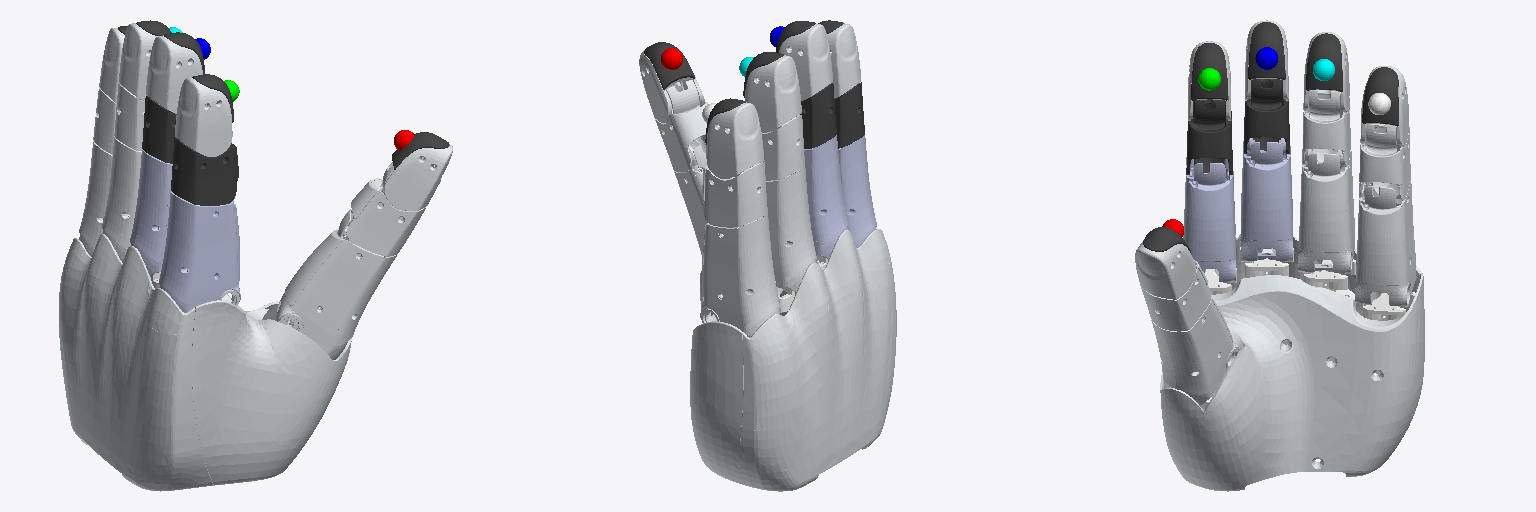
--- Facts derived from the render (not from the file) ---
The picture shows the robot from 3 angles, left to right: view 1: azimuth 30°, elevation 25°; view 2: azimuth 150°, elevation 25°; view 3: azimuth 270°, elevation 25°; orthographic projection.
Model left_hand with 31 links and 30 joints (20 revolute, 10 fixed), rooted at left_hand_base_link, posed every joint at zero.
Visible links, largest first — view 1: left_hand_base_link, l_thumb_Link2, l_index_Link2, l_thumb_Link3, l_mid_Link2, l_index_Link4, l_index_Link3, l_ring_Link2, l_thumb_Link4, l_mid_Link4, l_little_Link2, l_ring_Link4 (+7 smaller); view 2: left_hand_base_link, l_little_Link2, l_ring_Link2, l_mid_Link2, l_little_Link4, l_little_Link3, l_ring_Link4, l_thumb_Link3, l_index_Link2, l_mid_Link4, l_ring_Link3, l_index_Link4 (+7 smaller); view 3: left_hand_base_link, l_little_Link2, l_ring_Link2, l_mid_Link2, l_index_Link2, l_thumb_Link2, l_little_Link3, l_ring_Link3, l_index_Link3, l_mid_Link3, l_thumb_Link4, l_thumb_Link3 (+12 smaller).
Boxes of the visible links, <box> form: left_hand_base_link: <box>59,234,351,491</box>; l_thumb_Link2: <box>276,209,397,359</box>; l_index_Link2: <box>158,191,240,312</box>; l_thumb_Link3: <box>347,162,427,256</box>; l_mid_Link2: <box>130,149,172,276</box>; l_index_Link4: <box>175,77,232,156</box>; l_index_Link3: <box>171,137,238,205</box>; l_ring_Link2: <box>102,136,141,261</box>; l_thumb_Link4: <box>385,144,452,210</box>; l_mid_Link4: <box>146,35,202,113</box>; l_little_Link2: <box>79,140,112,256</box>; l_ring_Link4: <box>119,23,157,100</box>; left_hand_base_link: <box>690,227,896,491</box>; l_little_Link2: <box>700,214,780,336</box>; l_ring_Link2: <box>766,167,816,292</box>; l_mid_Link2: <box>804,135,848,259</box>; l_little_Link4: <box>706,102,764,178</box>; l_little_Link3: <box>702,162,767,227</box>; l_ring_Link4: <box>745,55,801,132</box>; l_thumb_Link3: <box>655,80,707,171</box>; l_index_Link2: <box>838,135,876,247</box>; l_mid_Link4: <box>779,24,832,100</box>; l_ring_Link3: <box>761,115,804,180</box>; l_index_Link4: <box>827,23,860,98</box>; left_hand_base_link: <box>1160,234,1424,491</box>; l_little_Link2: <box>1355,181,1416,305</box>; l_ring_Link2: <box>1298,149,1354,272</box>; l_mid_Link2: <box>1241,138,1292,260</box>; l_index_Link2: <box>1183,157,1235,281</box>; l_thumb_Link2: <box>1151,296,1238,405</box>; l_little_Link3: <box>1359,124,1410,199</box>; l_ring_Link3: <box>1302,90,1350,165</box>; l_index_Link3: <box>1186,99,1232,174</box>; l_mid_Link3: <box>1244,79,1289,153</box>; l_thumb_Link4: <box>1135,240,1195,299</box>; l_thumb_Link3: <box>1141,260,1210,331</box>.
Size in the robot's own frame: 0.1419 by 0.1267 by 0.2057 metres.
Meshes: 31 distinct files referenced, 31 mesh visuals loaded (31 binary STL).

The robot description file, URDF, robot "left_hand":
<?xml version="1.0"?>
<robot name="left_hand">
<!-- 后续的link、joint等定义将在这里添加 -->
<link
    name="left_hand_base_link">
    <inertial>
      <origin
        xyz="0.00296779791072187 -0.00540364796241295 0.0339495137345017"
        rpy="0 0 0" />
      <mass
        value="0.148556372728376" />
      <inertia
        ixx="0.000229894266849834"
        ixy="1.5888077250072E-05"
        ixz="9.58625100299982E-06"
        iyy="0.000141378464364347"
        iyz="6.13672789908214E-06"
        izz="0.000146509930632982" />
    </inertial>
    <visual>
      <origin
        xyz="0 0 0"
        rpy="0 0 0" />
      <geometry>
        <mesh
          filename="../meshes/left_hand_base_link.STL" />
      </geometry>
      <material
        name="">
        <color
          rgba="0.898039215686275 0.917647058823529 0.929411764705882 1" />
      </material>
    </visual>
    <collision>
      <origin
        xyz="0 0 0"
        rpy="0 0 0" />
      <geometry>
        <mesh
          filename="../meshes/left_hand_base_link.STL" />
      </geometry>
    </collision>
  </link>


  <link
    name="l_little_Link">
    <inertial>
      <origin
        xyz="-0.0229052296204234 -1.43603516367108E-06 -0.0171630640058617"
        rpy="0 0 0" />
      <mass
        value="0.0043190357873346" />
      <inertia
        ixx="2.5241403010236E-07"
        ixy="-9.65062855302873E-11"
        ixz="-1.32209369530774E-07"
        iyy="1.36153957889147E-06"
        iyz="-4.36390070322902E-12"
        izz="1.38758236343174E-06" />
    </inertial>
    <visual>
      <origin
        xyz="0 0 0"
        rpy="0 0 0" />
      <geometry>
        <mesh
          filename="../meshes/l_little_Link.STL" />
      </geometry>
      <material
        name="">
        <color
          rgba="1 1 1 1" />
      </material>
    </visual>
    <collision>
      <origin
        xyz="0 0 0"
        rpy="0 0 0" />
      <geometry>
        <mesh
          filename="../meshes/l_little_Link.STL" />
      </geometry>
    </collision>
  </link>
  <joint
    name="little_joint_link"
    type="fixed">
    <origin
      xyz="0.00816534303539043 0.0381711093059344 0.0747021548412329"
      rpy="3.1415926535894 -1.48352998916672 -0.174532925199077" />
    <parent
      link="left_hand_base_link" />
    <child
      link="l_little_Link" />
    <axis
      xyz="0 0 0" />
  </joint>
  <link
    name="l_little_Link1">
    <inertial>
      <origin
        xyz="0.00172060342986695 -1.6092273850965E-06 -0.00979856412039513"
        rpy="0 0 0" />
      <mass
        value="0.00203506474111471" />
      <inertia
        ixx="2.56395976882004E-07"
        ixy="-1.25500018329689E-11"
        ixz="-6.64122435874645E-09"
        iyy="1.18419700972717E-07"
        iyz="3.33147420342685E-11"
        izz="1.6016661400615E-07" />
    </inertial>
    <visual>
      <origin
        xyz="0 0 0"
        rpy="0 0 0" />
      <geometry>
        <mesh
          filename="../meshes/l_little_Link1.STL" />
      </geometry>
      <material
        name="">
        <color
          rgba="0.898039215686275 0.917647058823529 0.929411764705882 1" />
      </material>
    </visual>
    <collision>
      <origin
        xyz="0 0 0"
        rpy="0 0 0" />
      <geometry>
        <mesh
          filename="../meshes/l_little_Link1.STL" />
      </geometry>
    </collision>
  </link>
  <joint
    name="little_joint_Link1"
    type="revolute">
    <origin
      xyz="0 0 0"
      rpy="0 0 0" />
    <parent
      link="l_little_Link" />
    <child
      link="l_little_Link1" />
    <axis
      xyz="0 0 1" />
    <limit
      lower="-0.35"
      upper="0.35"
      effort="0"
      velocity="0" />
  </joint>
  <link
    name="l_little_Link2">
    <inertial>
      <origin
        xyz="0.0246892339286988 -0.00660246407630041 -2.8513961447485E-05"
        rpy="0 0 0" />
      <mass
        value="0.0109187963351699" />
      <inertia
        ixx="5.43261187502071E-07"
        ixy="-1.59473186422847E-07"
        ixz="5.9439153927523E-09"
        iyy="2.78203875794892E-06"
        iyz="-1.22618384962912E-09"
        izz="2.37315903699321E-06" />
    </inertial>
    <visual>
      <origin
        xyz="0 0 0"
        rpy="0 0 0" />
      <geometry>
        <mesh
          filename="../meshes/l_little_Link2.STL" />
      </geometry>
      <material
        name="">
        <color
          rgba="0.898039215686275 0.917647058823529 0.929411764705882 1" />
      </material>
    </visual>
    <collision>
      <origin
        xyz="0 0 0"
        rpy="0 0 0" />
      <geometry>
        <mesh
          filename="../meshes/l_little_Link2.STL" />
      </geometry>
    </collision>
  </link>
  <joint
    name="little_joint_Link2"
    type="revolute">
    <origin
      xyz="0.00266970069217996 0 0"
      rpy="1.5707963267949 0.0754319750352538 0" />
    <parent
      link="l_little_Link1" />
    <child
      link="l_little_Link2" />
    <axis
      xyz="0 0 1" />
    <limit
      lower="0"
      upper="1.48"
      effort="0"
      velocity="0" />
  </joint>
  <link
    name="l_little_Link3">
    <inertial>
      <origin
        xyz="0.0132067233010113 -0.00345018599186972 -0.000776981179585412"
        rpy="0 0 0" />
      <mass
        value="0.00911384846676701" />
      <inertia
        ixx="2.71031056540725E-07"
        ixy="-1.25546077604047E-07"
        ixz="-1.31092302426957E-08"
        iyy="9.17771220990002E-07"
        iyz="-3.09774297617696E-09"
        izz="8.86377126790325E-07" />
    </inertial>
    <visual>
      <origin
        xyz="0 0 0"
        rpy="0 0 0" />
      <geometry>
        <mesh
          filename="../meshes/l_little_Link3.STL" />
      </geometry>
      <material
        name="">
        <color
          rgba="0.898039215686275 0.917647058823529 0.929411764705882 1" />
      </material>
    </visual>
    <collision>
      <origin
        xyz="0 0 0"
        rpy="0 0 0" />
      <geometry>
        <mesh
          filename="../meshes/l_little_Link3.STL" />
      </geometry>
    </collision>
  </link>
  <joint
    name="little_joint_Link3"
    type="revolute">
    <origin
      xyz="0.051996416145839 0 0"
      rpy="0 0 -0.18678134031125" />
    <parent
      link="l_little_Link2" />
    <child
      link="l_little_Link3" />
    <axis
      xyz="0 0 1" />
    <limit
      lower="0"
      upper="1.4"
      effort="0"
      velocity="0" />
  </joint>
  <link
    name="l_little_Link4">
    <inertial>
      <origin
        xyz="0.00861823654831445 -0.00746052752435739 -0.000259390691448952"
        rpy="0 0 0" />
      <mass
        value="0.0077792427931824" />
      <inertia
        ixx="5.63819907802371E-07"
        ixy="2.16655086763159E-07"
        ixz="-1.75533372966918E-08"
        iyy="6.39958246408023E-07"
        iyz="1.44809419969732E-08"
        izz="6.10645342635964E-07" />
    </inertial>
    <visual>
      <origin
        xyz="0 0 0"
        rpy="0 0 0" />
      <geometry>
        <mesh
          filename="../meshes/l_little_Link4.STL" />
      </geometry>
      <material
        name="">
        <color
          rgba="0.898039215686275 0.917647058823529 0.929411764705882 1" />
      </material>
    </visual>
    <collision>
      <origin
        xyz="0 0 0"
        rpy="0 0 0" />
      <geometry>
        <mesh
          filename="../meshes/l_little_Link4.STL" />
      </geometry>
    </collision>
  </link>
  <joint
    name="little_joint_Link4"
    type="revolute">
    <origin
      xyz="0.0279999975933292 0 0"
      rpy="0 0 0.847727568862974" />
    <parent
      link="l_little_Link3" />
    <child
      link="l_little_Link4" />
    <axis
      xyz="0 0 1" />
    <limit
      lower="0"
      upper="1.4"
      effort="0"
      velocity="0" />
  </joint>
  <link
    name="l_little_Link5">
    <inertial>
      <origin
        xyz="-0.0014560998729379 -0.00486182731439654 -2.26725626933932E-06"
        rpy="0 0 0" />
      <mass
        value="0.000459946046328542" />
      <inertia
        ixx="3.03510494334862E-08"
        ixy="6.16115686773574E-09"
        ixz="1.46358476700954E-13"
        iyy="1.29751024667918E-08"
        iyz="-5.89758134452783E-12"
        izz="2.59273781671985E-08" />
    </inertial>
    <visual>
      <origin
        xyz="0 0 0"
        rpy="0 0 0" />
      <geometry>
        <mesh
          filename="../meshes/l_little_Link5.STL" />
      </geometry>
      <material
        name="">
        <color
          rgba="0.298039215686275 0.298039215686275 0.298039215686275 1" />
      </material>
    </visual>

    <!-- Add fingertip sphere -->
    <visual>
      <origin xyz="0 0 0" rpy="0 0 0" /> <!-- Positioning the sphere slightly from the tip -->
      <geometry>
        <sphere radius="0.005" /> <!-- Radius of the sphere, 5mm -->
      </geometry>
      <material name="white">
        <color rgba="1 1 1 1" /> <!-- Red color for the fingertip -->
      </material>
    </visual>

    
    <collision>
      <origin
        xyz="0 0 0"
        rpy="0 0 0" />
      <geometry>
        <mesh
          filename="../meshes/l_little_Link5.STL" />
      </geometry>
    </collision>
  </link>
  <joint
    name="little_joint_Link5"
    type="fixed">
    <origin
      xyz="0.0192146701472017 0 0"
      rpy="0 0 0" />
    <parent
      link="l_little_Link4" />
    <child
      link="l_little_Link5" />
    <axis
      xyz="0 0 0" />
  </joint>
  <link
    name="l_ring_Link">
    <inertial>
      <origin
        xyz="-0.0229052302257598 -1.43640644095777E-06 -0.017163064044914"
        rpy="0 0 0" />
      <mass
        value="0.00431903616614606" />
      <inertia
        ixx="2.5241405226222E-07"
        ixy="-9.64427663765468E-11"
        ixz="-1.32209315560787E-07"
        iyy="1.36153961088563E-06"
        iyz="-4.41844039009005E-12"
        izz="1.38758238016977E-06" />
    </inertial>
    <visual>
      <origin
        xyz="0 0 0"
        rpy="0 0 0" />
      <geometry>
        <mesh
          filename="../meshes/l_ring_Link.STL" />
      </geometry>
      <material
        name="">
        <color
          rgba="1 1 1 1" />
      </material>
    </visual>
    <collision>
      <origin
        xyz="0 0 0"
        rpy="0 0 0" />
      <geometry>
        <mesh
          filename="../meshes/l_ring_Link.STL" />
      </geometry>
    </collision>
  </link>
  <joint
    name="ring_joint_Link"
    type="fixed">
    <origin
      xyz="0.00481003038893076 0.0129963720296505 0.0887021464593528"
      rpy="3.14159265358961 -1.48352998916671 -0.0873783326349332" />
    <parent
      link="left_hand_base_link" />
    <child
      link="l_ring_Link" />
    <axis
      xyz="0 0 0" />
  </joint>
  <link
    name="l_ring_Link1">
    <inertial>
      <origin
        xyz="0.00172060506979917 -1.63281238957369E-06 -0.00979855501844473"
        rpy="0 0 0" />
      <mass
        value="0.00203505338352383" />
      <inertia
        ixx="2.56394618057585E-07"
        ixy="-1.26005937824003E-11"
        ixz="-6.64143949379228E-09"
        iyy="1.18418967799248E-07"
        iyz="3.2899635790103E-11"
        izz="1.60166110745908E-07" />
    </inertial>
    <visual>
      <origin
        xyz="0 0 0"
        rpy="0 0 0" />
      <geometry>
        <mesh
          filename="../meshes/l_ring_Link1.STL" />
      </geometry>
      <material
        name="">
        <color
          rgba="0.898039215686275 0.917647058823529 0.929411764705882 1" />
      </material>
    </visual>
    <collision>
      <origin
        xyz="0 0 0"
        rpy="0 0 0" />
      <geometry>
        <mesh
          filename="../meshes/l_ring_Link1.STL" />
      </geometry>
    </collision>
  </link>
  <joint
    name="ring_joint_Link1"
    type="revolute">
    <origin
      xyz="0 0 0"
      rpy="0 0 0" />
    <parent
      link="l_ring_Link" />
    <child
      link="l_ring_Link1" />
    <axis
      xyz="0 0 1" />
    <limit
      lower="-0.35"
      upper="0.35"
      effort="0"
      velocity="0" />
  </joint>
  <link
    name="l_ring_Link2">
    <inertial>
      <origin
        xyz="0.0259440280928197 -0.00425643421016016 -1.77699749138588E-05"
        rpy="0 0 0" />
      <mass
        value="0.018986264086651" />
      <inertia
        ixx="1.0304196721322E-06"
        ixy="-5.50432184203712E-08"
        ixz="9.15819378682299E-09"
        iyy="5.54795594338034E-06"
        iyz="-6.82204730686306E-10"
        izz="4.84277028970165E-06" />
    </inertial>
    <visual>
      <origin
        xyz="0 0 0"
        rpy="0 0 0" />
      <geometry>
        <mesh
          filename="../meshes/l_ring_Link2.STL" />
      </geometry>
      <material
        name="">
        <color
          rgba="0.898039215686275 0.917647058823529 0.929411764705882 1" />
      </material>
    </visual>
    <collision>
      <origin
        xyz="0 0 0"
        rpy="0 0 0" />
      <geometry>
        <mesh
          filename="../meshes/l_ring_Link2.STL" />
      </geometry>
    </collision>
  </link>
  <joint
    name="ring_joint_Link2"
    type="revolute">
    <origin
      xyz="0.00266970069218002 0 0"
      rpy="1.5707963267949 0.0927123573677301 0" />
    <parent
      link="l_ring_Link1" />
    <child
      link="l_ring_Link2" />
    <axis
      xyz="0 0 1" />
    <limit
      lower="0"
      upper="1.48"
      effort="0"
      velocity="0" />
  </joint>
  <link
    name="l_ring_Link3">
    <inertial>
      <origin
        xyz="0.0132066972442133 -0.00345031458222399 -0.000776953246793471"
        rpy="0 0 0" />
      <mass
        value="0.00911399750701795" />
      <inertia
        ixx="2.7103977517645E-07"
        ixy="-1.25546284687532E-07"
        ixz="-1.31094760819029E-08"
        iyy="9.17783598562711E-07"
        iyz="-3.09795340402588E-09"
        izz="8.86381785321369E-07" />
    </inertial>
    <visual>
      <origin
        xyz="0 0 0"
        rpy="0 0 0" />
      <geometry>
        <mesh
          filename="../meshes/l_ring_Link3.STL" />
      </geometry>
      <material
        name="">
        <color
          rgba="0.898039215686275 0.917647058823529 0.929411764705882 1" />
      </material>
    </visual>
    <collision>
      <origin
        xyz="0 0 0"
        rpy="0 0 0" />
      <geometry>
        <mesh
          filename="../meshes/l_ring_Link3.STL" />
      </geometry>
    </collision>
  </link>
  <joint
    name="ring_joint_Link3"
    type="revolute">
    <origin
      xyz="0.0519964161458373 0 0"
      rpy="0 0 -0.186824957553568" />
    <parent
      link="l_ring_Link2" />
    <child
      link="l_ring_Link3" />
    <axis
      xyz="0 0 1" />
    <limit
      lower="0"
      upper="1.4"
      effort="0"
      velocity="0" />
  </joint>
  <link
    name="l_ring_Link4">
    <inertial>
      <origin
        xyz="0.00861827293731393 -0.00746055651272146 -0.00025934856158652"
        rpy="0 0 0" />
      <mass
        value="0.00777931716912893" />
      <inertia
        ixx="5.63823848198068E-07"
        ixy="2.16657507471967E-07"
        ixz="-1.75526123116476E-08"
        iyy="6.39960408040215E-07"
        iyz="1.44811898264818E-08"
        izz="6.10650427374163E-07" />
    </inertial>
    <visual>
      <origin
        xyz="0 0 0"
        rpy="0 0 0" />
      <geometry>
        <mesh
          filename="../meshes/l_ring_Link4.STL" />
      </geometry>
      <material
        name="">
        <color
          rgba="0.898039215686275 0.917647058823529 0.929411764705882 1" />
      </material>
    </visual>
    <collision>
      <origin
        xyz="0 0 0"
        rpy="0 0 0" />
      <geometry>
        <mesh
          filename="../meshes/l_ring_Link4.STL" />
      </geometry>
    </collision>
  </link>
  <joint
    name="ring_joint_Link4"
    type="revolute">
    <origin
      xyz="0.0280000000000191 0 0"
      rpy="0 0 0.847685632513042" />
    <parent
      link="l_ring_Link3" />
    <child
      link="l_ring_Link4" />
    <axis
      xyz="0 0 1" />
    <limit
      lower="0"
      upper="1.4"
      effort="0"
      velocity="0" />
  </joint>
  <link
    name="l_ring_Link5">
    <inertial>
      <origin
        xyz="-0.00145614829167237 -0.00486213236464841 -1.61911022714123E-06"
        rpy="0 0 0" />
      <mass
        value="0.000459982817495153" />
      <inertia
        ixx="3.03527233721561E-08"
        ixy="6.16128329502206E-09"
        ixz="2.51976648053025E-13"
        iyy="1.29761063777049E-08"
        iyz="-4.20898376836525E-12"
        izz="2.59279521109627E-08" />
    </inertial>
    <visual>
      <origin
        xyz="0 0 0"
        rpy="0 0 0" />
      <geometry>
        <mesh
          filename="../meshes/l_ring_Link5.STL" />
      </geometry>
      <material
        name="">
        <color
          rgba="0.298039215686275 0.298039215686275 0.298039215686275 1" />
      </material>
    </visual>

    <!-- Add fingertip sphere -->
    <visual>
      <origin xyz="0 0 0" rpy="0 0 0" /> <!-- Positioning the sphere slightly from the tip -->
      <geometry>
        <sphere radius="0.005" /> <!-- Radius of the sphere, 5mm -->
      </geometry>
      <material name="cyan">
        <color rgba="0 1 1 1" /> <!-- Red color for the fingertip -->
      </material>
    </visual>


    <collision>
      <origin
        xyz="0 0 0"
        rpy="0 0 0" />
      <geometry>
        <mesh
          filename="../meshes/l_ring_Link5.STL" />
      </geometry>
    </collision>
  </link>
  <joint
    name="ring_joint_Link5"
    type="fixed">
    <origin
      xyz="0.0192146701472015 0 0"
      rpy="0 0 0" />
    <parent
      link="l_ring_Link4" />
    <child
      link="l_ring_Link5" />
    <axis
      xyz="0 0 0" />
  </joint>
  <link
    name="l_mid_Link">
    <inertial>
      <origin
        xyz="-0.0229052282256459 -1.4367212710642E-06 -0.0171630635059725"
        rpy="0 0 0" />
      <mass
        value="0.00431903691502812" />
      <inertia
        ixx="2.52414085447547E-07"
        ixy="-9.63917384649585E-11"
        ixz="-1.32209330012813E-07"
        iyy="1.36153980529772E-06"
        iyz="-4.45232932335304E-12"
        izz="1.38758254722346E-06" />
    </inertial>
    <visual>
      <origin
        xyz="0 0 0"
        rpy="0 0 0" />
      <geometry>
        <mesh
          filename="../meshes/l_mid_Link.STL" />
      </geometry>
      <material
        name="">
        <color
          rgba="1 1 1 1" />
      </material>
    </visual>
    
    <collision>
      <origin
        xyz="0 0 0"
        rpy="0 0 0" />
      <geometry>
        <mesh
          filename="../meshes/l_mid_Link.STL" />
      </geometry>
    </collision>
  </link>
  <joint
    name="mid_joint_Link"
    type="fixed">
    <origin
      xyz="0.00364998856872663 -0.0125051922308197 0.0937021458861629"
      rpy="3.14159265358979 -1.48352998916671 0" />
    <parent
      link="left_hand_base_link" />
    <child
      link="l_mid_Link" />
    <axis
      xyz="0 0 0" />
  </joint>
  <link
    name="l_mid_Link1">
    <inertial>
      <origin
        xyz="0.00171995172400527 -9.93001217641787E-08 -0.00979689525142753"
        rpy="0 0 0" />
      <mass
        value="0.00203540900102666" />
      <inertia
        ixx="2.56458737701822E-07"
        ixy="-1.89330587745718E-13"
        ixz="-6.63417848554982E-09"
        iyy="1.18446259145766E-07"
        iyz="1.41583972464041E-12"
        izz="1.60186232901657E-07" />
    </inertial>
    <visual>
      <origin
        xyz="0 0 0"
        rpy="0 0 0" />
      <geometry>
        <mesh
          filename="../meshes/l_mid_Link1.STL" />
      </geometry>
      <material
        name="">
        <color
          rgba="0.898039215686275 0.917647058823529 0.929411764705882 1" />
      </material>
    </visual>
    <collision>
      <origin
        xyz="0 0 0"
        rpy="0 0 0" />
      <geometry>
        <mesh
          filename="../meshes/l_mid_Link1.STL" />
      </geometry>
    </collision>
  </link>
  <joint
    name="mid_joint_Link1"
    type="revolute">
    <origin
      xyz="0 0 0"
      rpy="0 0 0" />
    <parent
      link="l_mid_Link" />
    <child
      link="l_mid_Link1" />
    <axis
      xyz="0 0 1" />
    <limit
      lower="-0.35"
      upper="0.35"
      effort="0"
      velocity="0" />
  </joint>
  <link
    name="l_mid_Link2">
    <inertial>
      <origin
        xyz="0.0259440891888809 -0.0042565337082144 -1.77890052572016E-05"
        rpy="0 0 0" />
      <mass
        value="0.0189863976173573" />
      <inertia
        ixx="1.03042947039295E-06"
        ixy="-5.50265752361572E-08"
        ixz="9.14479417689669E-09"
        iyy="5.54797989366152E-06"
        iyz="-6.74033621784752E-10"
        izz="4.84278810007534E-06" />
    </inertial>
    <visual>
      <origin
        xyz="0 0 0"
        rpy="0 0 0" />
      <geometry>
        <mesh
          filename="../meshes/l_mid_Link2.STL" />
      </geometry>
      <material
        name="">
        <color
          rgba="0.792156862745098 0.819607843137255 0.933333333333333 1" />
      </material>
    </visual>
    <collision>
      <origin
        xyz="0 0 0"
        rpy="0 0 0" />
      <geometry>
        <mesh
          filename="../meshes/l_mid_Link2.STL" />
      </geometry>
    </collision>
  </link>
  <joint
    name="mid_joint_Link2"
    type="revolute">
    <origin
      xyz="0.00266970069218002 0 0"
      rpy="1.5707963267949 0.0925952840895053 0" />
    <parent
      link="l_mid_Link1" />
    <child
      link="l_mid_Link2" />
    <axis
      xyz="0 0 1" />
    <limit
      lower="0"
      upper="1.48"
      effort="0"
      velocity="0" />
  </joint>
  <link
    name="l_mid_Link3">
    <inertial>
      <origin
        xyz="0.013206714297042 -0.00345036757116254 -0.000776973299861095"
        rpy="0 0 0" />
      <mass
        value="0.0091140802721639" />
      <inertia
        ixx="2.71044661319173E-07"
        ixy="-1.25548150222407E-07"
        ixz="-1.31093333294134E-08"
        iyy="9.17792784483775E-07"
        iyz="-3.09763654789665E-09"
        izz="8.86387730580222E-07" />
    </inertial>
    <visual>
      <origin
        xyz="0 0 0"
        rpy="0 0 0" />
      <geometry>
        <mesh
          filename="../meshes/l_mid_Link3.STL" />
      </geometry>
      <material
        name="">
        <color
          rgba="0.298039215686275 0.298039215686275 0.298039215686275 1" />
      </material>
    </visual>
    <collision>
      <origin
        xyz="0 0 0"
        rpy="0 0 0" />
      <geometry>
        <mesh
          filename="../meshes/l_mid_Link3.STL" />
      </geometry>
    </collision>
  </link>
  <joint
    name="mid_joint_Link3"
    type="revolute">
    <origin
      xyz="0.0519964161458393 0 0"
      rpy="0 0 -0.186782267123327" />
    <parent
      link="l_mid_Link2" />
    <child
      link="l_mid_Link3" />
    <axis
      xyz="0 0 1" />
    <limit
      lower="0"
      upper="1.4"
      effort="0"
      velocity="0" />
  </joint>
  <link
    name="l_mid_Link4">
    <inertial>
      <origin
        xyz="0.00861832364616719 -0.00746055600621305 -0.00025934627600202"
        rpy="0 0 0" />
      <mass
        value="0.00777934344890331" />
      <inertia
        ixx="5.63823726587379E-07"
        ixy="2.16658532074309E-07"
        ixz="-1.75526181463711E-08"
        iyy="6.39960694023276E-07"
        iyz="1.44811159455673E-08"
        izz="6.10652424670872E-07" />
    </inertial>
    <visual>
      <origin
        xyz="0 0 0"
        rpy="0 0 0" />
      <geometry>
        <mesh
          filename="../meshes/l_mid_Link4.STL" />
      </geometry>
      <material
        name="">
        <color
          rgba="0.898039215686275 0.917647058823529 0.929411764705882 1" />
      </material>
    </visual>
    <collision>
      <origin
        xyz="0 0 0"
        rpy="0 0 0" />
      <geometry>
        <mesh
          filename="../meshes/l_mid_Link4.STL" />
      </geometry>
    </collision>
  </link>
  <joint
    name="mid_joint_Link4"
    type="revolute">
    <origin
      xyz="0.0280000000000187 0 0"
      rpy="0 0 0.84770376697185" />
    <parent
      link="l_mid_Link3" />
    <child
      link="l_mid_Link4" />
    <axis
      xyz="0 0 1" />
    <limit
      lower="0"
      upper="1.4"
      effort="0"
      velocity="0" />
  </joint>
  <link
    name="l_mid_Link5">
    <inertial>
      <origin
        xyz="-0.00145607854667468 -0.00486165584147547 -1.31946465461996E-06"
        rpy="0 0 0" />
      <mass
        value="0.000459960595052483" />
      <inertia
        ixx="3.03502869712701E-08"
        ixy="6.1613984055656E-09"
        ixz="4.82714413079179E-13"
        iyy="1.29757926496909E-08"
        iyz="-2.83321747576638E-12"
        izz="2.59258967379797E-08" />
    </inertial>
    <visual>
      <origin
        xyz="0 0 0"
        rpy="0 0 0" />
      <geometry>
        <mesh
          filename="../meshes/l_mid_Link5.STL" />
      </geometry>
      <material
        name="">
        <color
          rgba="0.298039215686275 0.298039215686275 0.298039215686275 1" />
      </material>
    </visual>

    <!-- Add fingertip sphere -->
    <visual>
      <origin xyz="0 0 0" rpy="0 0 0" /> <!-- Positioning the sphere slightly from the tip -->
      <geometry>
        <sphere radius="0.005" /> <!-- Radius of the sphere, 5mm -->
      </geometry>
      <material name="blue">
        <color rgba="0 0 1 1" /> <!-- Red color for the fingertip -->
      </material>
    </visual>


    <collision>
      <origin
        xyz="0 0 0"
        rpy="0 0 0" />
      <geometry>
        <mesh
          filename="../meshes/l_mid_Link5.STL" />
      </geometry>
    </collision>
  </link>
  <joint
    name="mid_joint_Link5"
    type="fixed">
    <origin
      xyz="0.0192146701472015 0 0"
      rpy="0 0 0" />
    <parent
      link="l_mid_Link4" />
    <child
      link="l_mid_Link5" />
    <axis
      xyz="0 0 0" />
  </joint>
  <link
    name="l_index_Link">
    <inertial>
      <origin
        xyz="-0.0229052282256461 -1.43672127102951E-06 -0.0171630635059724"
        rpy="0 0 0" />
      <mass
        value="0.00431903691502811" />
      <inertia
        ixx="2.52414085447545E-07"
        ixy="-9.63917384653092E-11"
        ixz="-1.32209330012805E-07"
        iyy="1.36153980529772E-06"
        iyz="-4.45232932339412E-12"
        izz="1.38758254722346E-06" />
    </inertial>
    <visual>
      <origin
        xyz="0 0 0"
        rpy="0 0 0" />
      <geometry>
        <mesh
          filename="../meshes/l_index_Link.STL" />
      </geometry>
      <material
        name="">
        <color
          rgba="1 1 1 1" />
      </material>
    </visual>
    <collision>
      <origin
        xyz="0 0 0"
        rpy="0 0 0" />
      <geometry>
        <mesh
          filename="../meshes/l_index_Link.STL" />
      </geometry>
    </collision>
  </link>
  <joint
    name="index_joint_Link"
    type="fixed">
    <origin
      xyz="0.00364998856872661 -0.0375051922308197 0.0837021458861628"
      rpy="3.14159265358979 -1.4835299891667 0" />
    <parent
      link="left_hand_base_link" />
    <child
      link="l_index_Link" />
    <axis
      xyz="0 0 0" />
  </joint>
  <link
    name="l_index_Link1">
    <inertial>
      <origin
        xyz="0.00171995172400516 -9.93001219862233E-08 -0.0097968952514276"
        rpy="0 0 0" />
      <mass
        value="0.00203540900102667" />
      <inertia
        ixx="2.56458737701822E-07"
        ixy="-1.89330587279777E-13"
        ixz="-6.6341784855491E-09"
        iyy="1.18446259145765E-07"
        iyz="1.4158397230977E-12"
        izz="1.60186232901658E-07" />
    </inertial>
    <visual>
      <origin
        xyz="0 0 0"
        rpy="0 0 0" />
      <geometry>
        <mesh
          filename="../meshes/l_index_Link1.STL" />
      </geometry>
      <material
        name="">
        <color
          rgba="0.898039215686275 0.917647058823529 0.929411764705882 1" />
      </material>
    </visual>
    <collision>
      <origin
        xyz="0 0 0"
        rpy="0 0 0" />
      <geometry>
        <mesh
          filename="../meshes/l_index_Link1.STL" />
      </geometry>
    </collision>
  </link>
  <joint
    name="index_joint_Link1"
    type="revolute">
    <origin
      xyz="0 0 0"
      rpy="0 0 0" />
    <parent
      link="l_index_Link" />
    <child
      link="l_index_Link1" />
    <axis
      xyz="0 0 1" />
    <limit
      lower="-0.35"
      upper="0.35"
      effort="0"
      velocity="0" />
  </joint>
  <link
    name="l_index_Link2">
    <inertial>
      <origin
        xyz="0.0246899411952219 -0.0066015201098354 -2.86303551527423E-05"
        rpy="0 0 0" />
      <mass
        value="0.0109191013716227" />
      <inertia
        ixx="5.43295120042812E-07"
        ixy="-1.59572845915E-07"
        ixz="5.94006018173138E-09"
        iyy="2.78206191938346E-06"
        iyz="-1.21205816355298E-09"
        izz="2.37318430357934E-06" />
    </inertial>
    <visual>
      <origin
        xyz="0 0 0"
        rpy="0 0 0" />
      <geometry>
        <mesh
          filename="../meshes/l_index_Link2.STL" />
      </geometry>
      <material
        name="">
        <color
          rgba="0.792156862745098 0.819607843137255 0.933333333333333 1" />
      </material>
    </visual>
    <collision>
      <origin
        xyz="0 0 0"
        rpy="0 0 0" />
      <geometry>
        <mesh
          filename="../meshes/l_index_Link2.STL" />
      </geometry>
    </collision>
  </link>
  <joint
    name="index_joint_Link2"
    type="revolute">
    <origin
      xyz="0.00266970069218002 0 0"
      rpy="1.5707963267949 0.0927123573677354 0" />
    <parent
      link="l_index_Link1" />
    <child
      link="l_index_Link2" />
    <axis
      xyz="0 0 1" />
    <limit
      lower="0"
      upper="1.48"
      effort="0"
      velocity="0" />
  </joint>
  <link
    name="l_index_Link3">
    <inertial>
      <origin
        xyz="0.0132065472069028 -0.00345100959988337 -0.000776972955568854"
        rpy="0 0 0" />
      <mass
        value="0.00911407909773972" />
      <inertia
        ixx="2.71032377974704E-07"
        ixy="-1.25516499880233E-07"
        ixz="-1.31094586391823E-08"
        iyy="9.17804962544902E-07"
        iyz="-3.09695782358113E-09"
        izz="8.86387566730911E-07" />
    </inertial>
    <visual>
      <origin
        xyz="0 0 0"
        rpy="0 0 0" />
      <geometry>
        <mesh
          filename="../meshes/l_index_Link3.STL" />
      </geometry>
      <material
        name="">
        <color
          rgba="0.298039215686275 0.298039215686275 0.298039215686275 1" />
      </material>
    </visual>
    <collision>
      <origin
        xyz="0 0 0"
        rpy="0 0 0" />
      <geometry>
        <mesh
          filename="../meshes/l_index_Link3.STL" />
      </geometry>
    </collision>
  </link>
  <joint
    name="index_joint_Link3"
    type="revolute">
    <origin
      xyz="0.0519964161458395 0 0"
      rpy="0 0 -0.186734628820752" />
    <parent
      link="l_index_Link2" />
    <child
      link="l_index_Link3" />
    <axis
      xyz="0 0 1" />
    <limit
      lower="0"
      upper="1.4"
      effort="0"
      velocity="0" />
  </joint>
  <link
    name="l_index_Link4">
    <inertial>
      <origin
        xyz="0.00861832358195133 -0.00746055613134733 -0.000259346380327603"
        rpy="0 0 0" />
      <mass
        value="0.00777934375267978" />
      <inertia
        ixx="5.63823745659555E-07"
        ixy="2.16658538812354E-07"
        ixz="-1.75526229289264E-08"
        iyy="6.39960709407693E-07"
        iyz="1.44811197287811E-08"
        izz="6.10652446306587E-07" />
    </inertial>
    <visual>
      <origin
        xyz="0 0 0"
        rpy="0 0 0" />
      <geometry>
        <mesh
          filename="../meshes/l_index_Link4.STL" />
      </geometry>
      <material
        name="">
        <color
          rgba="0.898039215686275 0.917647058823529 0.929411764705882 1" />
      </material>
    </visual>
    <collision>
      <origin
        xyz="0 0 0"
        rpy="0 0 0" />
      <geometry>
        <mesh
          filename="../meshes/l_index_Link4.STL" />
      </geometry>
    </collision>
  </link>
  <joint
    name="index_joint_Link4"
    type="revolute">
    <origin
      xyz="0.0279997456643247 0 0"
      rpy="0 0 0.847653292094756" />
    <parent
      link="l_index_Link3" />
    <child
      link="l_index_Link4" />
    <axis
      xyz="0 0 1" />
    <limit
      lower="0"
      upper="1.4"
      effort="0"
      velocity="0" />
  </joint>
  <link
    name="l_index_Link5">
    <inertial>
      <origin
        xyz="-0.00145607853210616 -0.00486165576822094 -1.31938417912564E-06"
        rpy="0 0 0" />
      <mass
        value="0.000459960586858784" />
      <inertia
        ixx="3.03502867766997E-08"
        ixy="6.16139841096516E-09"
        ixz="4.82700730622844E-13"
        iyy="1.29757925502736E-08"
        iyz="-2.83290528237618E-12"
        izz="2.59258964939191E-08" />
    </inertial>
    <visual>
      <origin
        xyz="0 0 0"
        rpy="0 0 0" />
      <geometry>
        <mesh
          filename="../meshes/l_index_Link5.STL" />
      </geometry>
      <material
        name="">
        <color
          rgba="0.298039215686275 0.298039215686275 0.298039215686275 1" />
      </material>
    </visual>

    <!-- Add fingertip sphere -->
    <visual>
      <origin xyz="0 0 0" rpy="0 0 0" /> <!-- Positioning the sphere slightly from the tip -->
      <geometry>
        <sphere radius="0.005" /> <!-- Radius of the sphere, 5mm -->
      </geometry>
      <material name="green">
        <color rgba="0 1 0 1" /> <!-- Red color for the fingertip -->
      </material>
    </visual>

    <collision>
      <origin
        xyz="0 0 0"
        rpy="0 0 0" />
      <geometry>
        <mesh
          filename="../meshes/l_index_Link5.STL" />
      </geometry>
    </collision>
  </link>
  <joint
    name="index_joint_Link5"
    type="fixed">
    <origin
      xyz="0.0192146701472015 0 0"
      rpy="0 0 0" />
    <parent
      link="l_index_Link4" />
    <child
      link="l_index_Link5" />
    <axis
      xyz="0 0 0" />
  </joint>
  <link
    name="l_thumb_Link">
    <inertial>
      <origin
        xyz="-0.0229051677087169 -1.43771513505531E-06 -0.0171630658881551"
        rpy="0 0 0" />
      <mass
        value="0.00431904911780169" />
      <inertia
        ixx="2.52414166952145E-07"
        ixy="-9.61158045267395E-11"
        ixz="-1.32209202563974E-07"
        iyy="1.36154262545603E-06"
        iyz="-4.64799555199111E-12"
        izz="1.38758535399561E-06" />
    </inertial>
    <visual>
      <origin
        xyz="0 0 0"
        rpy="0 0 0" />
      <geometry>
        <mesh
          filename="../meshes/l_thumb_Link.STL" />
      </geometry>
      <material
        name="">
        <color
          rgba="1 1 1 1" />
      </material>
    </visual>
    <collision>
      <origin
        xyz="0 0 0"
        rpy="0 0 0" />
      <geometry>
        <mesh
          filename="../meshes/l_thumb_Link.STL" />
      </geometry>
    </collision>
  </link>
  <joint
    name="thumb_joint_Link"
    type="fixed">
    <origin
      xyz="0.0404523960187522 -0.0366805561000816 0.0626366358102537"
      rpy="-0.258031712293359 -1.03169878533867 -0.320095323570413" />
    <parent
      link="left_hand_base_link" />
    <child
      link="l_thumb_Link" />
    <axis
      xyz="0 0 0" />
  </joint>
  <link
    name="l_thumb_Link1">
    <inertial>
      <origin
        xyz="0.00357271536664822 -1.23623136644158E-06 -0.0114890990499378"
        rpy="0 0 0" />
      <mass
        value="0.0026084531451735" />
      <inertia
        ixx="3.04842512568925E-07"
        ixy="-1.40204411774505E-11"
        ixz="-7.51520768157437E-09"
        iyy="1.45082529664126E-07"
        iyz="3.3924899801344E-11"
        izz="2.08700025723815E-07" />
    </inertial>
    <visual>
      <origin
        xyz="0 0 0"
        rpy="0 0 0" />
      <geometry>
        <mesh
          filename="../meshes/l_thumb_Link1.STL" />
      </geometry>
      <material
        name="">
        <color
          rgba="0.898039215686275 0.917647058823529 0.929411764705882 1" />
      </material>
    </visual>
    <collision>
      <origin
        xyz="0 0 0"
        rpy="0 0 0" />
      <geometry>
        <mesh
          filename="../meshes/l_thumb_Link1.STL" />
      </geometry>
    </collision>
  </link>
  <joint
    name="thumb_joint_Link1"
    type="revolute">
    <origin
      xyz="0 0 0"
      rpy="0 0 0" />
    <parent
      link="l_thumb_Link" />
    <child
      link="l_thumb_Link1" />
    <axis
      xyz="0 0 1" />
    <limit
      lower="-0.35"
      upper="0.35"
      effort="0"
      velocity="0" />
  </joint>
  <link
    name="l_thumb_Link2">
    <inertial>
      <origin
        xyz="0.0259430352975645 -0.00425364338196792 -1.77197772805449E-05"
        rpy="0 0 0" />
      <mass
        value="0.0189827005014662" />
      <inertia
        ixx="1.03041205241911E-06"
        ixy="-5.50519057556492E-08"
        ixz="9.16209175875303E-09"
        iyy="5.54760268639795E-06"
        iyz="-6.80438527943914E-10"
        izz="4.84241341885394E-06" />
    </inertial>
    <visual>
      <origin
        xyz="0 0 0"
        rpy="0 0 0" />
      <geometry>
        <mesh
          filename="../meshes/l_thumb_Link2.STL" />
      </geometry>
      <material
        name="">
        <color
          rgba="0.898039215686275 0.917647058823529 0.929411764705882 1" />
      </material>
    </visual>
    <collision>
      <origin
        xyz="0 0 0"
        rpy="0 0 0" />
      <geometry>
        <mesh
          filename="../meshes/l_thumb_Link2.STL" />
      </geometry>
    </collision>
  </link>
  <joint
    name="thumb_joint_Link2"
    type="revolute">
    <origin
      xyz="0.00266970069218002 0 0"
      rpy="1.5707963267949 0.0927123573677491 0" />
    <parent
      link="l_thumb_Link1" />
    <child
      link="l_thumb_Link2" />
    <axis
      xyz="0 0 1" />
    <limit
      lower="0"
      upper="1.48"
      effort="0"
      velocity="0" />
  </joint>
  <link
    name="l_thumb_Link3">
    <inertial>
      <origin
        xyz="0.0132065889839406 -0.00345172081356347 -0.000776476680704893"
        rpy="0 0 0" />
      <mass
        value="0.00911507328246695" />
      <inertia
        ixx="2.71095698633094E-07"
        ixy="-1.25512858925134E-07"
        ixz="-1.31016056251417E-08"
        iyy="9.1787660395821E-07"
        iyz="-3.10738393267098E-09"
        izz="8.8641801525493E-07" />
    </inertial>
    <visual>
      <origin
        xyz="0 0 0"
        rpy="0 0 0" />
      <geometry>
        <mesh
          filename="../meshes/l_thumb_Link3.STL" />
      </geometry>
      <material
        name="">
        <color
          rgba="0.898039215686275 0.917647058823529 0.929411764705882 1" />
      </material>
    </visual>
    <collision>
      <origin
        xyz="0 0 0"
        rpy="0 0 0" />
      <geometry>
        <mesh
          filename="../meshes/l_thumb_Link3.STL" />
      </geometry>
    </collision>
  </link>
  <joint
    name="thumb_joint_Link3"
    type="revolute">
    <origin
      xyz="0.0519964161458347 0 0"
      rpy="0 0 -0.1867348607204" />
    <parent
      link="l_thumb_Link2" />
    <child
      link="l_thumb_Link3" />
    <axis
      xyz="0 0 1" />
    <limit
      lower="0"
      upper="1.4"
      effort="0"
      velocity="0" />
  </joint>
  <link
    name="l_thumb_Link4">
    <inertial>
      <origin
        xyz="0.00861825742407202 -0.00746041166876518 -0.000259324468342273"
        rpy="0 0 0" />
      <mass
        value="0.00777885211151398" />
      <inertia
        ixx="5.63815612773878E-07"
        ixy="2.16657020608612E-07"
        ixz="-1.75501408358948E-08"
        iyy="6.3989702625284E-07"
        iyz="1.44783563710413E-08"
        izz="6.10607355700563E-07" />
    </inertial>
    <visual>
      <origin
        xyz="0 0 0"
        rpy="0 0 0" />
      <geometry>
        <mesh
          filename="../meshes/l_thumb_Link4.STL" />
      </geometry>
      <material
        name="">
        <color
          rgba="0.898039215686275 0.917647058823529 0.929411764705882 1" />
      </material>
    </visual>
    <collision>
      <origin
        xyz="0 0 0"
        rpy="0 0 0" />
      <geometry>
        <mesh
          filename="../meshes/l_thumb_Link4.STL" />
      </geometry>
    </collision>
  </link>
  <joint
    name="thumb_joint_Link4"
    type="revolute">
    <origin
      xyz="0.0279997504780255 0 0"
      rpy="0 0 0.847655363587766" />
    <parent
      link="l_thumb_Link3" />
    <child
      link="l_thumb_Link4" />
    <axis
      xyz="0 0 1" />
    <limit
      lower="0"
      upper="1.4"
      effort="0"
      velocity="0" />
  </joint>
  <link
    name="l_thumb_Link5">
    <inertial>
      <origin
        xyz="-0.00145681212944512 -0.00486386603305167 -1.90973609537348E-06"
        rpy="0 0 0" />
      <mass
        value="0.00046010316918957" />
      <inertia
        ixx="3.03610941646359E-08"
        ixy="6.15782594670466E-09"
        ixz="1.49878340287666E-12"
        iyy="1.29773675550389E-08"
        iyz="-5.16005945751124E-12"
        izz="2.59361637499571E-08" />
    </inertial>
    <visual>
      <origin
        xyz="0 0 0"
        rpy="0 0 0" />
      <geometry>
        <mesh
          filename="../meshes/l_thumb_Link5.STL" />
      </geometry>
      <material
        name="">
        <color
          rgba="0.298039215686275 0.298039215686275 0.298039215686275 1" />
      </material>
    </visual>

    <!-- Add fingertip sphere -->
    <visual>
      <origin xyz="0 0 0" rpy="0 0 0" /> <!-- Positioning the sphere slightly from the tip -->
      <geometry>
        <sphere radius="0.005" /> <!-- Radius of the sphere, 5mm -->
      </geometry>
      <material name="red">
        <color rgba="1 0 0 1" /> <!-- Red color for the fingertip -->
      </material>
    </visual>

    <collision>
      <origin
        xyz="0 0 0"
        rpy="0 0 0" />
      <geometry>
        <mesh
          filename="../meshes/l_thumb_Link5.STL" />
      </geometry>
    </collision>
  </link>
  <joint
    name="thumb_joint_Link5"
    type="fixed">
    <origin
      xyz="0.0192146701472031 0 0"
      rpy="0 0 0" />
    <parent
      link="l_thumb_Link4" />
    <child
      link="l_thumb_Link5" />
    <axis
      xyz="0 0 0" />
  </joint>


<!-- virtual auxiliary link -->

<!-- for openxr / apple vision pro, good retarget with thumb and index.  ==> teleop_hand_and_arm.py -->






</robot>
